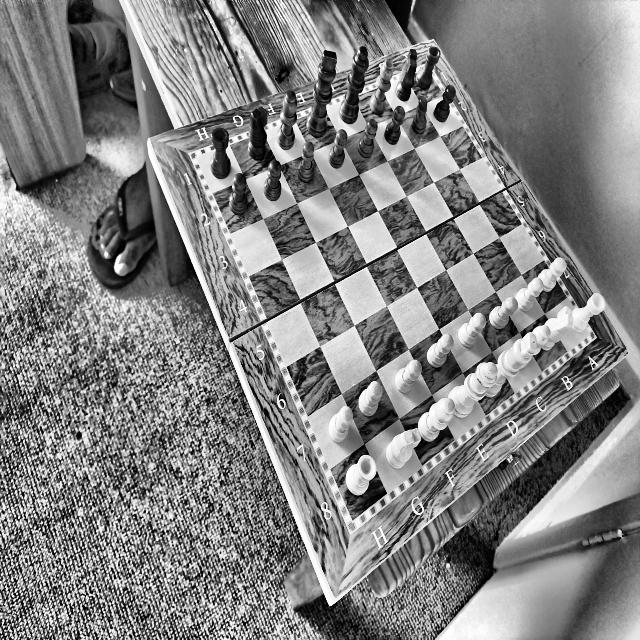black-bishop: (276, 87, 300, 152), (370, 61, 397, 116)
black-king: (307, 48, 338, 138)
black-knight: (395, 48, 418, 104), (249, 104, 269, 161)
black-pawn: (433, 86, 457, 127), (296, 143, 319, 183), (386, 106, 406, 151), (228, 174, 248, 217), (263, 160, 283, 202), (329, 128, 349, 169), (360, 119, 379, 160), (413, 97, 429, 139)
black-queen: (340, 45, 370, 125)
black-rook: (206, 126, 234, 184), (420, 44, 441, 91)
white-bishop: (419, 399, 456, 447), (532, 315, 550, 362)
white-king: (484, 333, 539, 400)
white-knight: (386, 426, 422, 474), (545, 305, 572, 356)
white-pawn: (456, 307, 490, 354), (538, 256, 573, 292), (426, 330, 454, 374), (357, 379, 383, 424), (393, 359, 424, 396), (515, 275, 546, 311), (327, 406, 356, 440), (488, 299, 518, 331)
white-queen: (451, 361, 499, 431)
white-rook: (345, 454, 377, 501), (572, 289, 604, 331)
